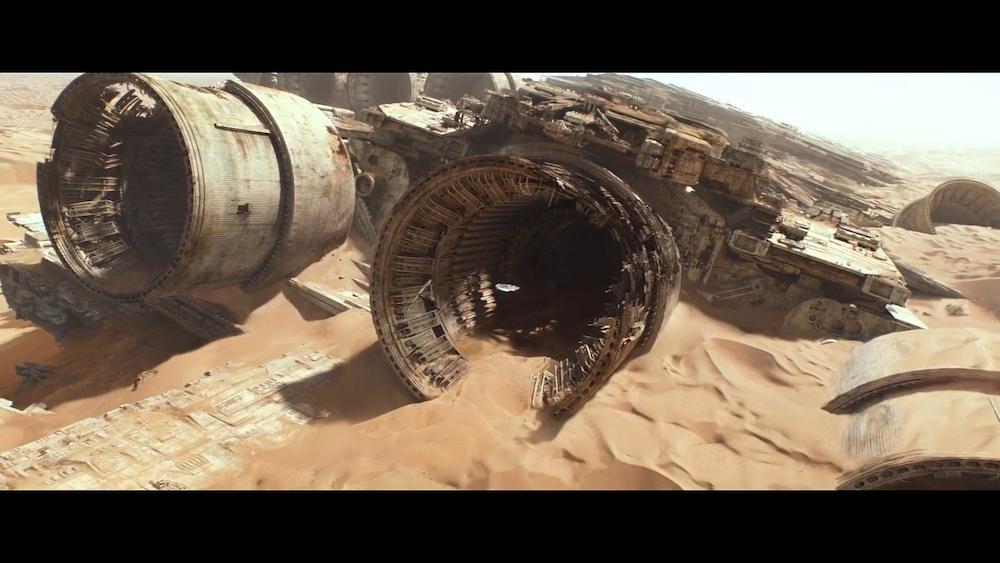Millennium Falcon: (496, 284, 520, 293)
Tie Fighter: (408, 281, 454, 324)
